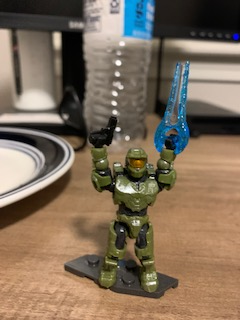chief: (91, 116, 179, 294)
pistol: (87, 114, 117, 148)
spartan: (89, 114, 177, 292)
up: (89, 130, 180, 213)
